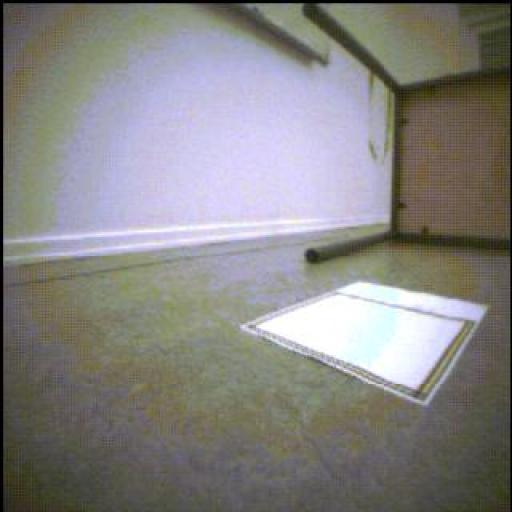Pad: (243, 283, 488, 406)
